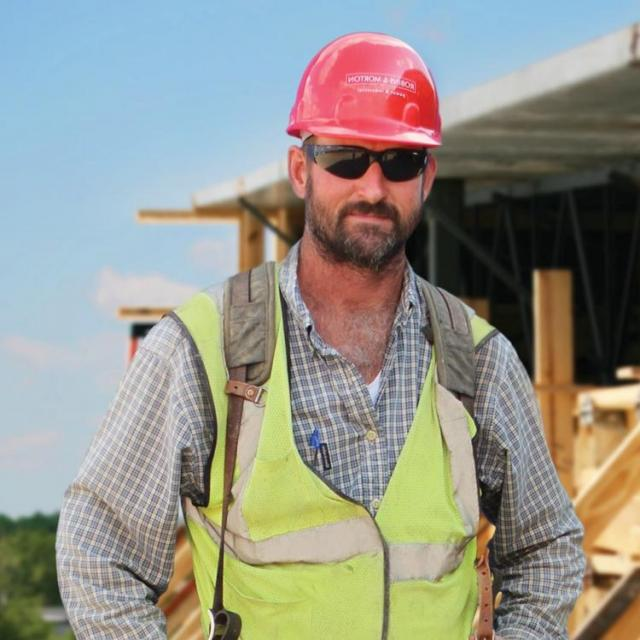Reflective-Jacket: (166, 260, 498, 638)
Safety-Helmet: (282, 26, 449, 152)
